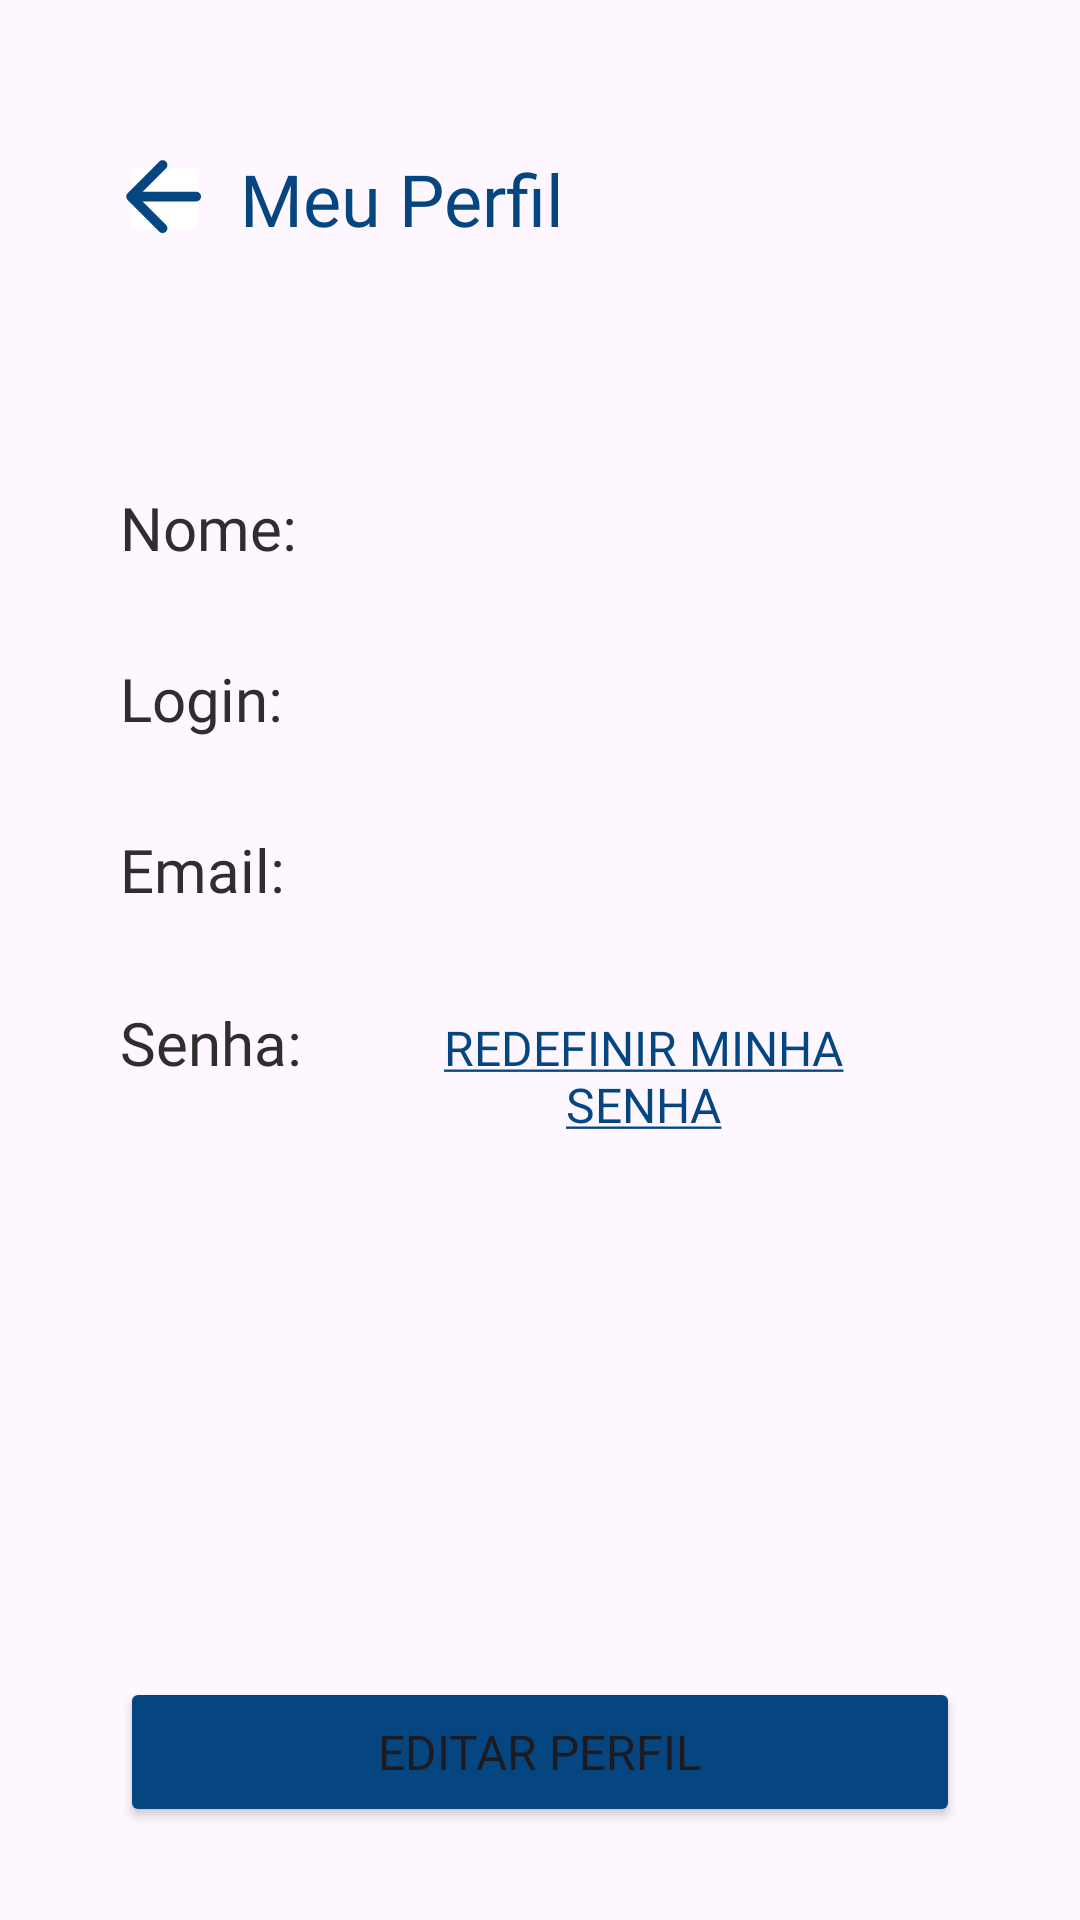

Screen size 1080px×1920px. Icon name, then its center in pixels as (x=x, y=y):
arrow back: (x=163, y=196)
